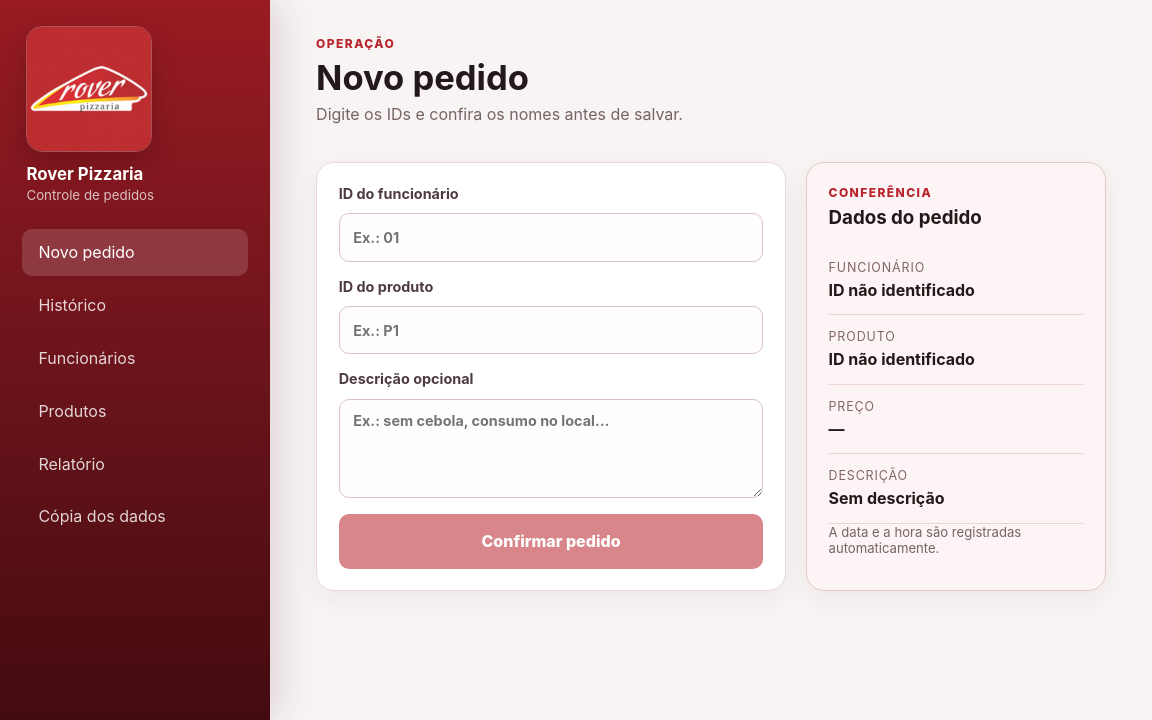
aplicação › carrega pedidos já gravados no aparelho
This screenshot has width=1152, height=720.
What coordinates should you click on to do the following:
click the button "Histórico"
I would click on:
 (135, 305)
Its box is top-left (22, 282), bottom-right (248, 329).
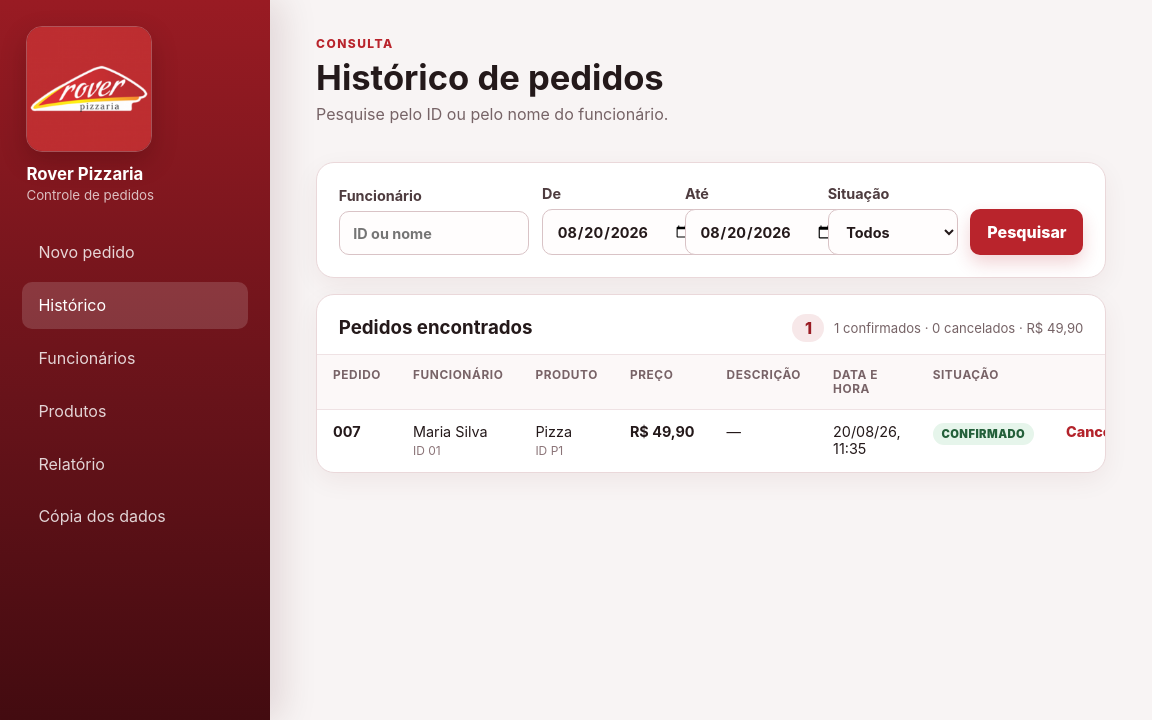
Expected: the text "Maria Silva" is shown, top-left (413, 423), bottom-right (488, 440)
Expected: the text "007" is shown, top-left (333, 423), bottom-right (361, 440)
